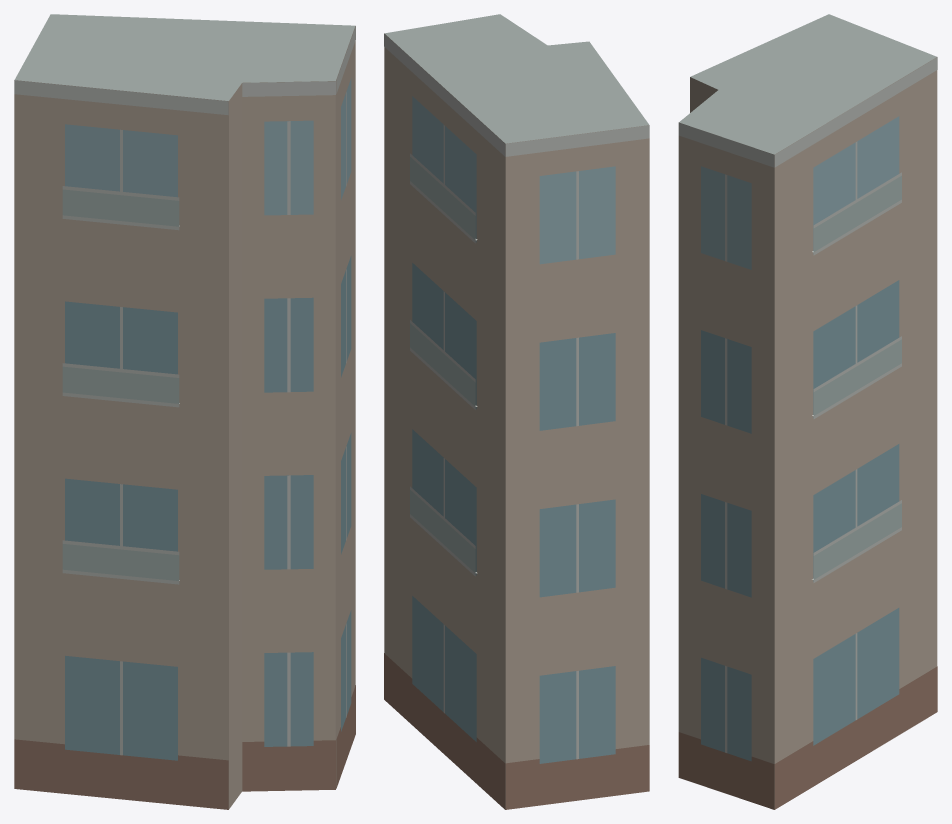
Rendered from survey-upis-32771043.glb.
The picture shows the model from 3 angles, left to right: view 1: azimuth 30°, elevation 25°; view 2: azimuth 150°, elevation 25°; view 3: azimuth 270°, elevation 25°; orthographic projection. The views are drawn at different scales.
Parts seen in each view (by area): view 1: survey-upis-32771043.tmp; view 2: survey-upis-32771043.tmp; view 3: survey-upis-32771043.tmp.
Part boxes in pixels (bbox=[...]): survey-upis-32771043.tmp: bbox=[14, 14, 355, 809]; survey-upis-32771043.tmp: bbox=[384, 14, 649, 809]; survey-upis-32771043.tmp: bbox=[678, 14, 937, 809].
Size of the model in its own units: 5.62 by 12.2 by 4.37.
